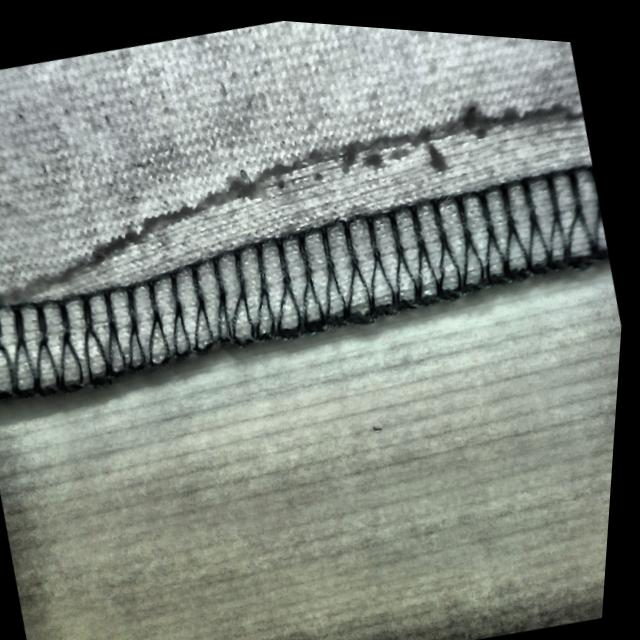seam: (0, 27, 630, 425)
